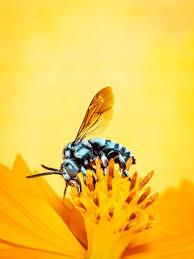Thyreus: (25, 83, 152, 190)
